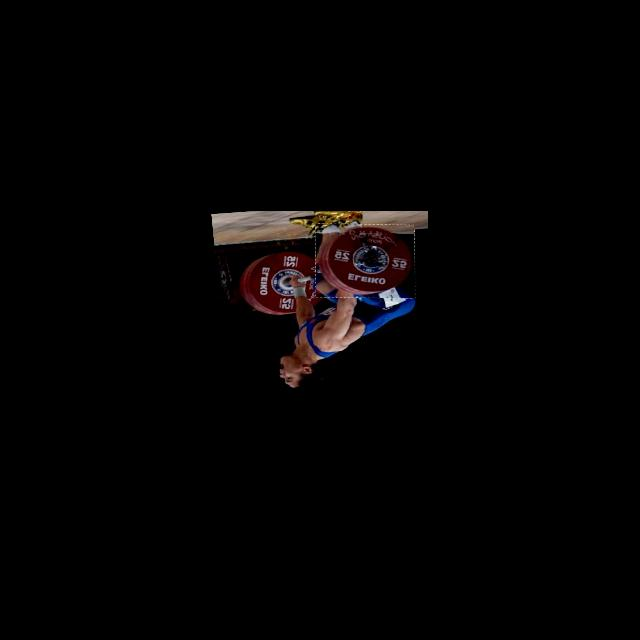barbell: (310, 222, 418, 305)
